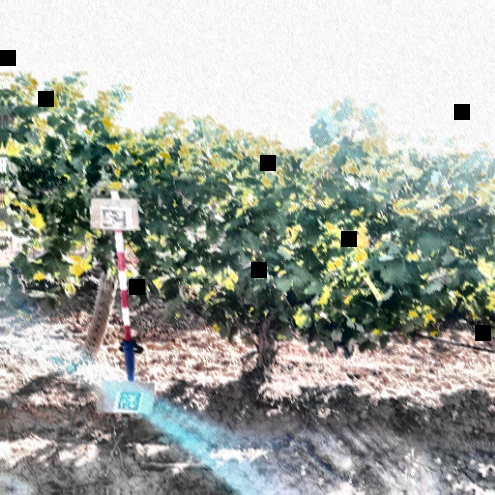QR: (114, 390, 140, 410), (100, 208, 125, 227)
